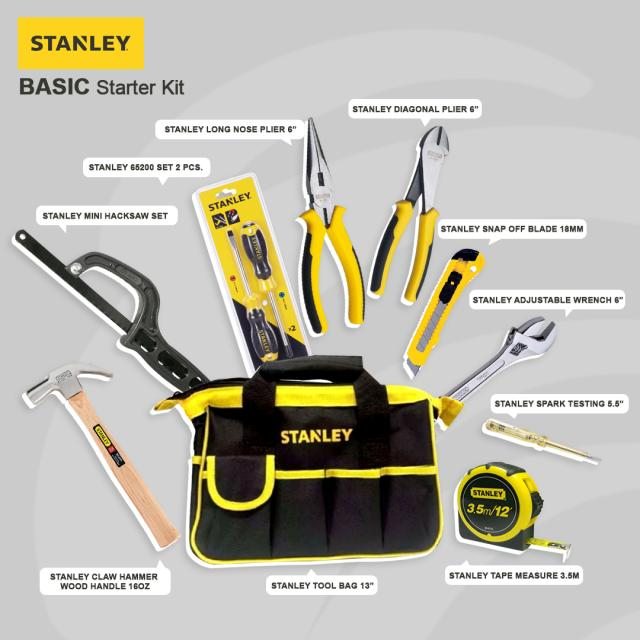Screwdriver: (241, 221, 292, 358), (228, 230, 279, 361), (482, 419, 601, 464)
